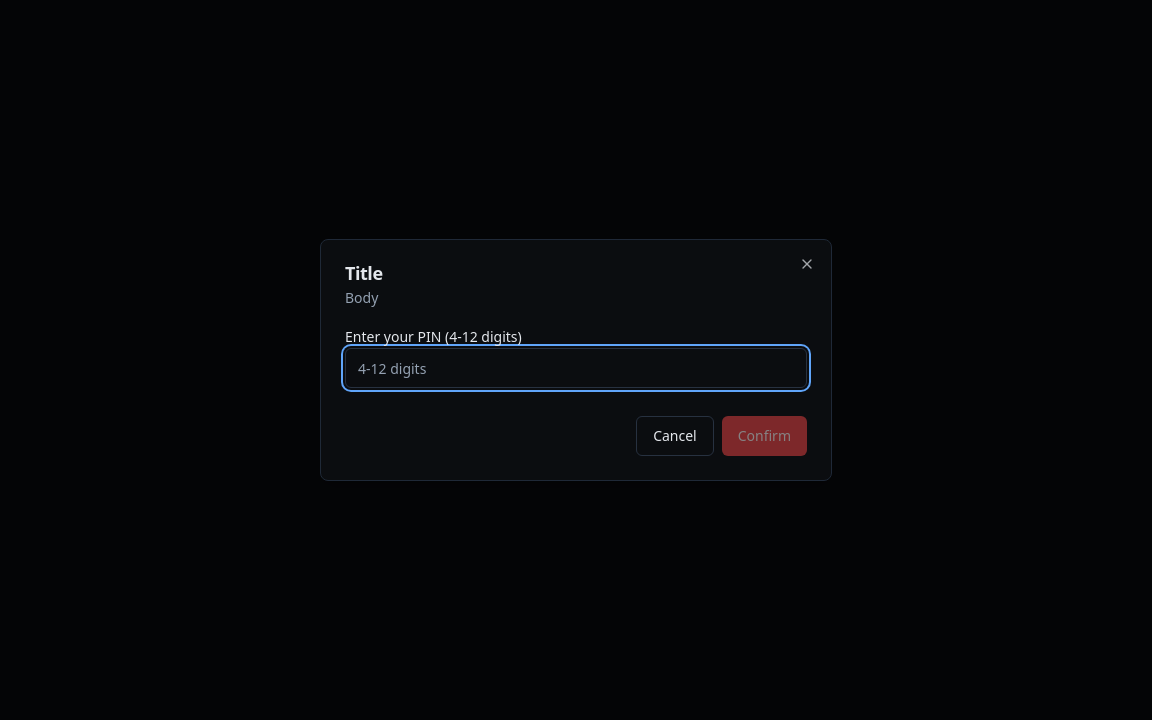
Test: ConfirmPinDialog › enables submit at exactly 4 digits
This screenshot has width=1152, height=720.
Type "1234" into the password field labelled "PIN" at (576, 368), box [345,348,807,388]
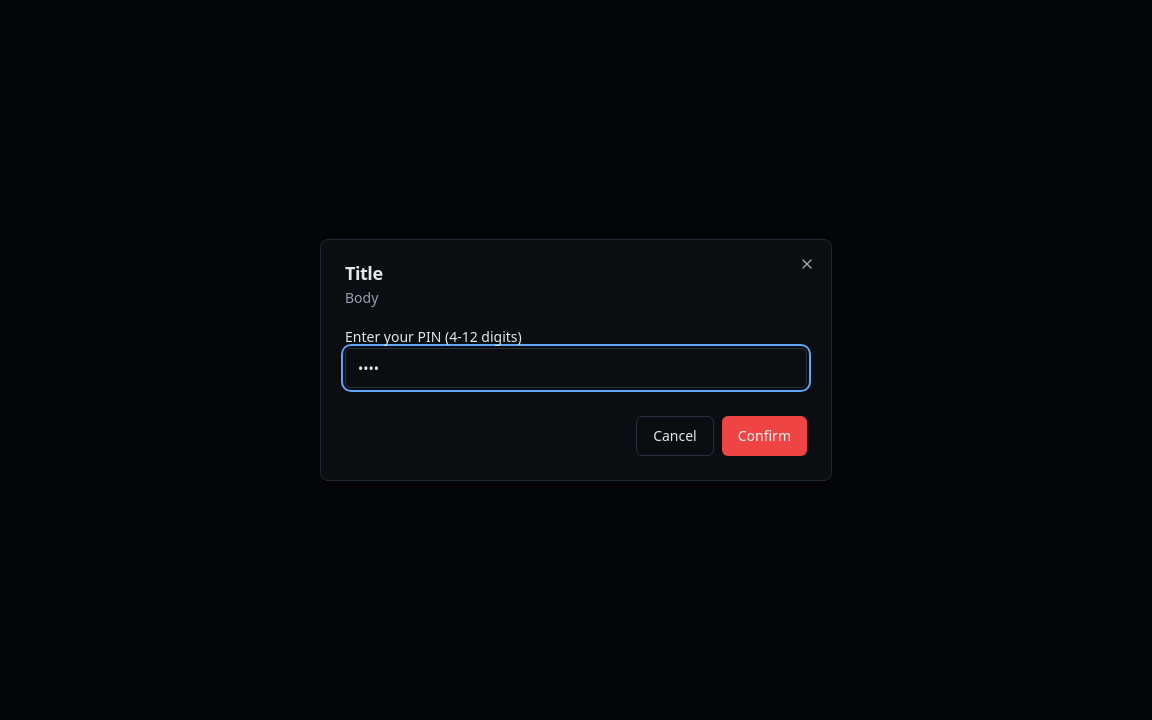
Now the button "Confirm" is enabled, box [722,416,807,456]
